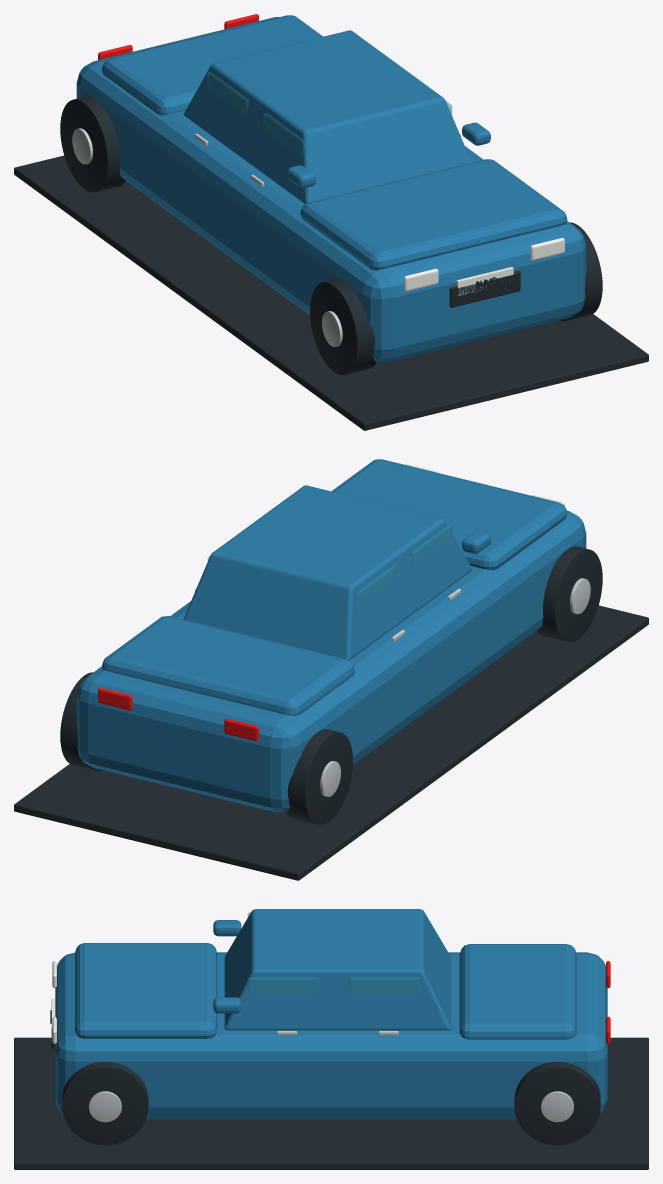
File: parking_vehicle.glb
3 renders of one model, top to bottom at view 1: azimuth 30°, elevation 25°; view 2: azimuth 150°, elevation 25°; view 3: azimuth 270°, elevation 25°, orthographic. The views are drawn at different scales.
Parts seen in each view (by area): view 1: VEHICLE_BODY, REVIEW_GROUND, VEHICLE_TAPERED_GREENHOUSE, VEHICLE_HOOD, VEHICLE_TRUNK, WHEEL_-1_-1.78, WHEEL_-1_1.78, FRONT_GRILLE, WHEEL_1_-1.78, SIDE_WINDOW_-1_-0.38, SIDE_WINDOW_-1_0.42, HUB_-1_1.78 (+1 smaller); view 2: VEHICLE_BODY, REVIEW_GROUND, VEHICLE_TAPERED_GREENHOUSE, VEHICLE_TRUNK, VEHICLE_HOOD, WHEEL_-1_1.78, WHEEL_-1_-1.78, WHEEL_1_1.78, SIDE_WINDOW_-1_0.42, SIDE_WINDOW_-1_-0.38; view 3: VEHICLE_BODY, REVIEW_GROUND, VEHICLE_TAPERED_GREENHOUSE, VEHICLE_HOOD, VEHICLE_TRUNK, WHEEL_1_1.78, WHEEL_1_-1.78, SIDE_WINDOW_1_-0.38, SIDE_WINDOW_1_0.42, HUB_1_1.78, HUB_1_-1.78, SIDE_MIRROR_1 (+1 smaller).
Part boxes in pixels (x1=…): VEHICLE_BODY: x1=76, y1=17, x2=586, y2=362; REVIEW_GROUND: x1=14, y1=155, x2=648, y2=430; VEHICLE_TAPERED_GREENHOUSE: x1=183, y1=30, x2=471, y2=204; VEHICLE_HOOD: x1=300, y1=159, x2=567, y2=270; VEHICLE_TRUNK: x1=102, y1=15, x2=322, y2=115; WHEEL_-1_-1.78: x1=310, y1=279, x2=376, y2=375; WHEEL_-1_1.78: x1=60, y1=96, x2=125, y2=192; FRONT_GRILLE: x1=449, y1=271, x2=520, y2=307; WHEEL_1_-1.78: x1=560, y1=222, x2=602, y2=321; SIDE_WINDOW_-1_-0.38: x1=263, y1=113, x2=305, y2=157; SIDE_WINDOW_-1_0.42: x1=207, y1=72, x2=248, y2=116; HUB_-1_1.78: x1=72, y1=128, x2=92, y2=164; VEHICLE_BODY: x1=76, y1=510, x2=586, y2=812; REVIEW_GROUND: x1=14, y1=605, x2=648, y2=880; VEHICLE_TAPERED_GREENHOUSE: x1=183, y1=485, x2=472, y2=660; VEHICLE_TRUNK: x1=102, y1=616, x2=354, y2=715; VEHICLE_HOOD: x1=331, y1=459, x2=567, y2=570; WHEEL_-1_1.78: x1=286, y1=729, x2=352, y2=824; WHEEL_-1_-1.78: x1=537, y1=546, x2=602, y2=642; WHEEL_1_1.78: x1=60, y1=672, x2=102, y2=771; SIDE_WINDOW_-1_0.42: x1=355, y1=565, x2=396, y2=609; SIDE_WINDOW_-1_-0.38: x1=411, y1=524, x2=452, y2=568; VEHICLE_BODY: x1=55, y1=952, x2=607, y2=1119; REVIEW_GROUND: x1=14, y1=1037, x2=648, y2=1169; VEHICLE_TAPERED_GREENHOUSE: x1=224, y1=909, x2=450, y2=1030; VEHICLE_HOOD: x1=75, y1=943, x2=217, y2=1038; VEHICLE_TRUNK: x1=459, y1=944, x2=576, y2=1039; WHEEL_1_1.78: x1=514, y1=1061, x2=600, y2=1145; WHEEL_1_-1.78: x1=62, y1=1061, x2=148, y2=1145; SIDE_WINDOW_1_-0.38: x1=247, y1=977, x2=318, y2=993; SIDE_WINDOW_1_0.42: x1=349, y1=977, x2=420, y2=993; HUB_1_1.78: x1=541, y1=1091, x2=573, y2=1122; HUB_1_-1.78: x1=89, y1=1091, x2=121, y2=1122; SIDE_MIRROR_1: x1=213, y1=997, x2=241, y2=1013.
Bounding box in the file's own units: 2.35 × 1.46 × 5.
